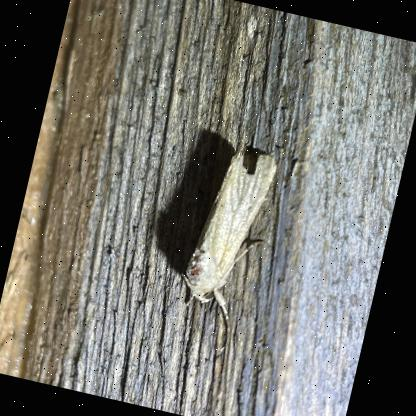Fall Armyworm Moth: (163, 137, 286, 357)
